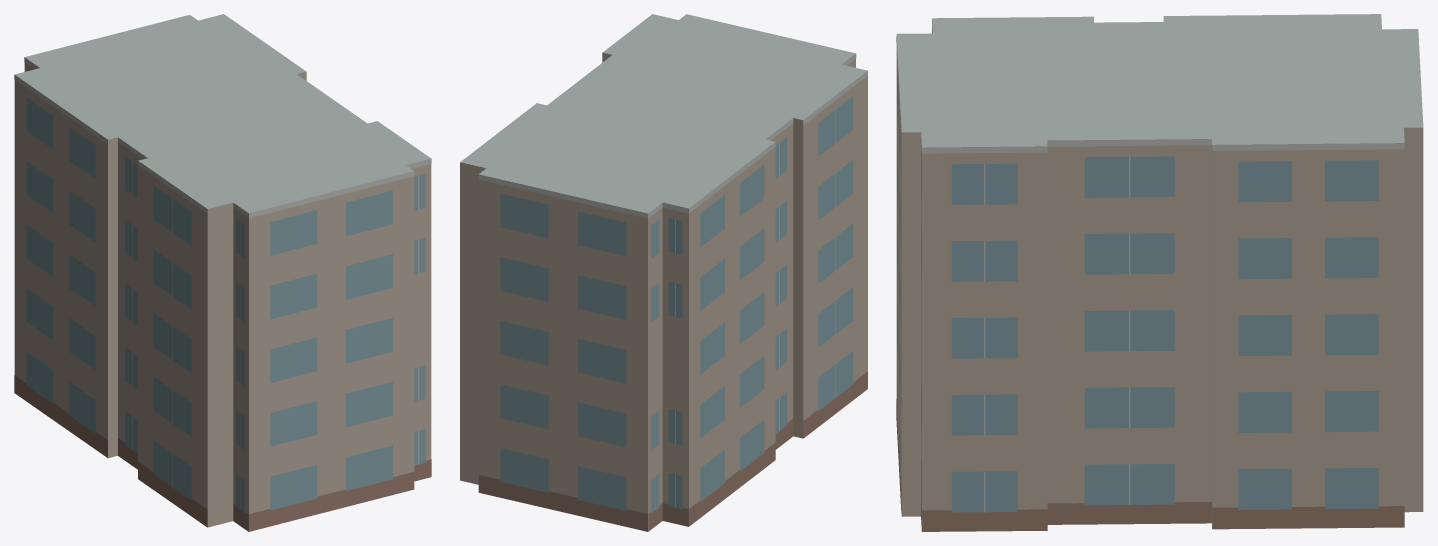
File: survey-upis-32660840.glb
3 views of the same model, side by side, from view 1: azimuth 30°, elevation 25°; view 2: azimuth 150°, elevation 25°; view 3: azimuth 270°, elevation 25° (orthographic). The views are drawn at different scales.
Parts seen in each view (by area): view 1: survey-upis-32660840.tmp; view 2: survey-upis-32660840.tmp; view 3: survey-upis-32660840.tmp.
Boxes of the visible parts, x1,y1,x2,y2 form: survey-upis-32660840.tmp: (14,14,431,531); survey-upis-32660840.tmp: (460,14,867,531); survey-upis-32660840.tmp: (896,14,1423,531).
Size of the model in its own units: 11.33 by 15.2 by 18.9.
